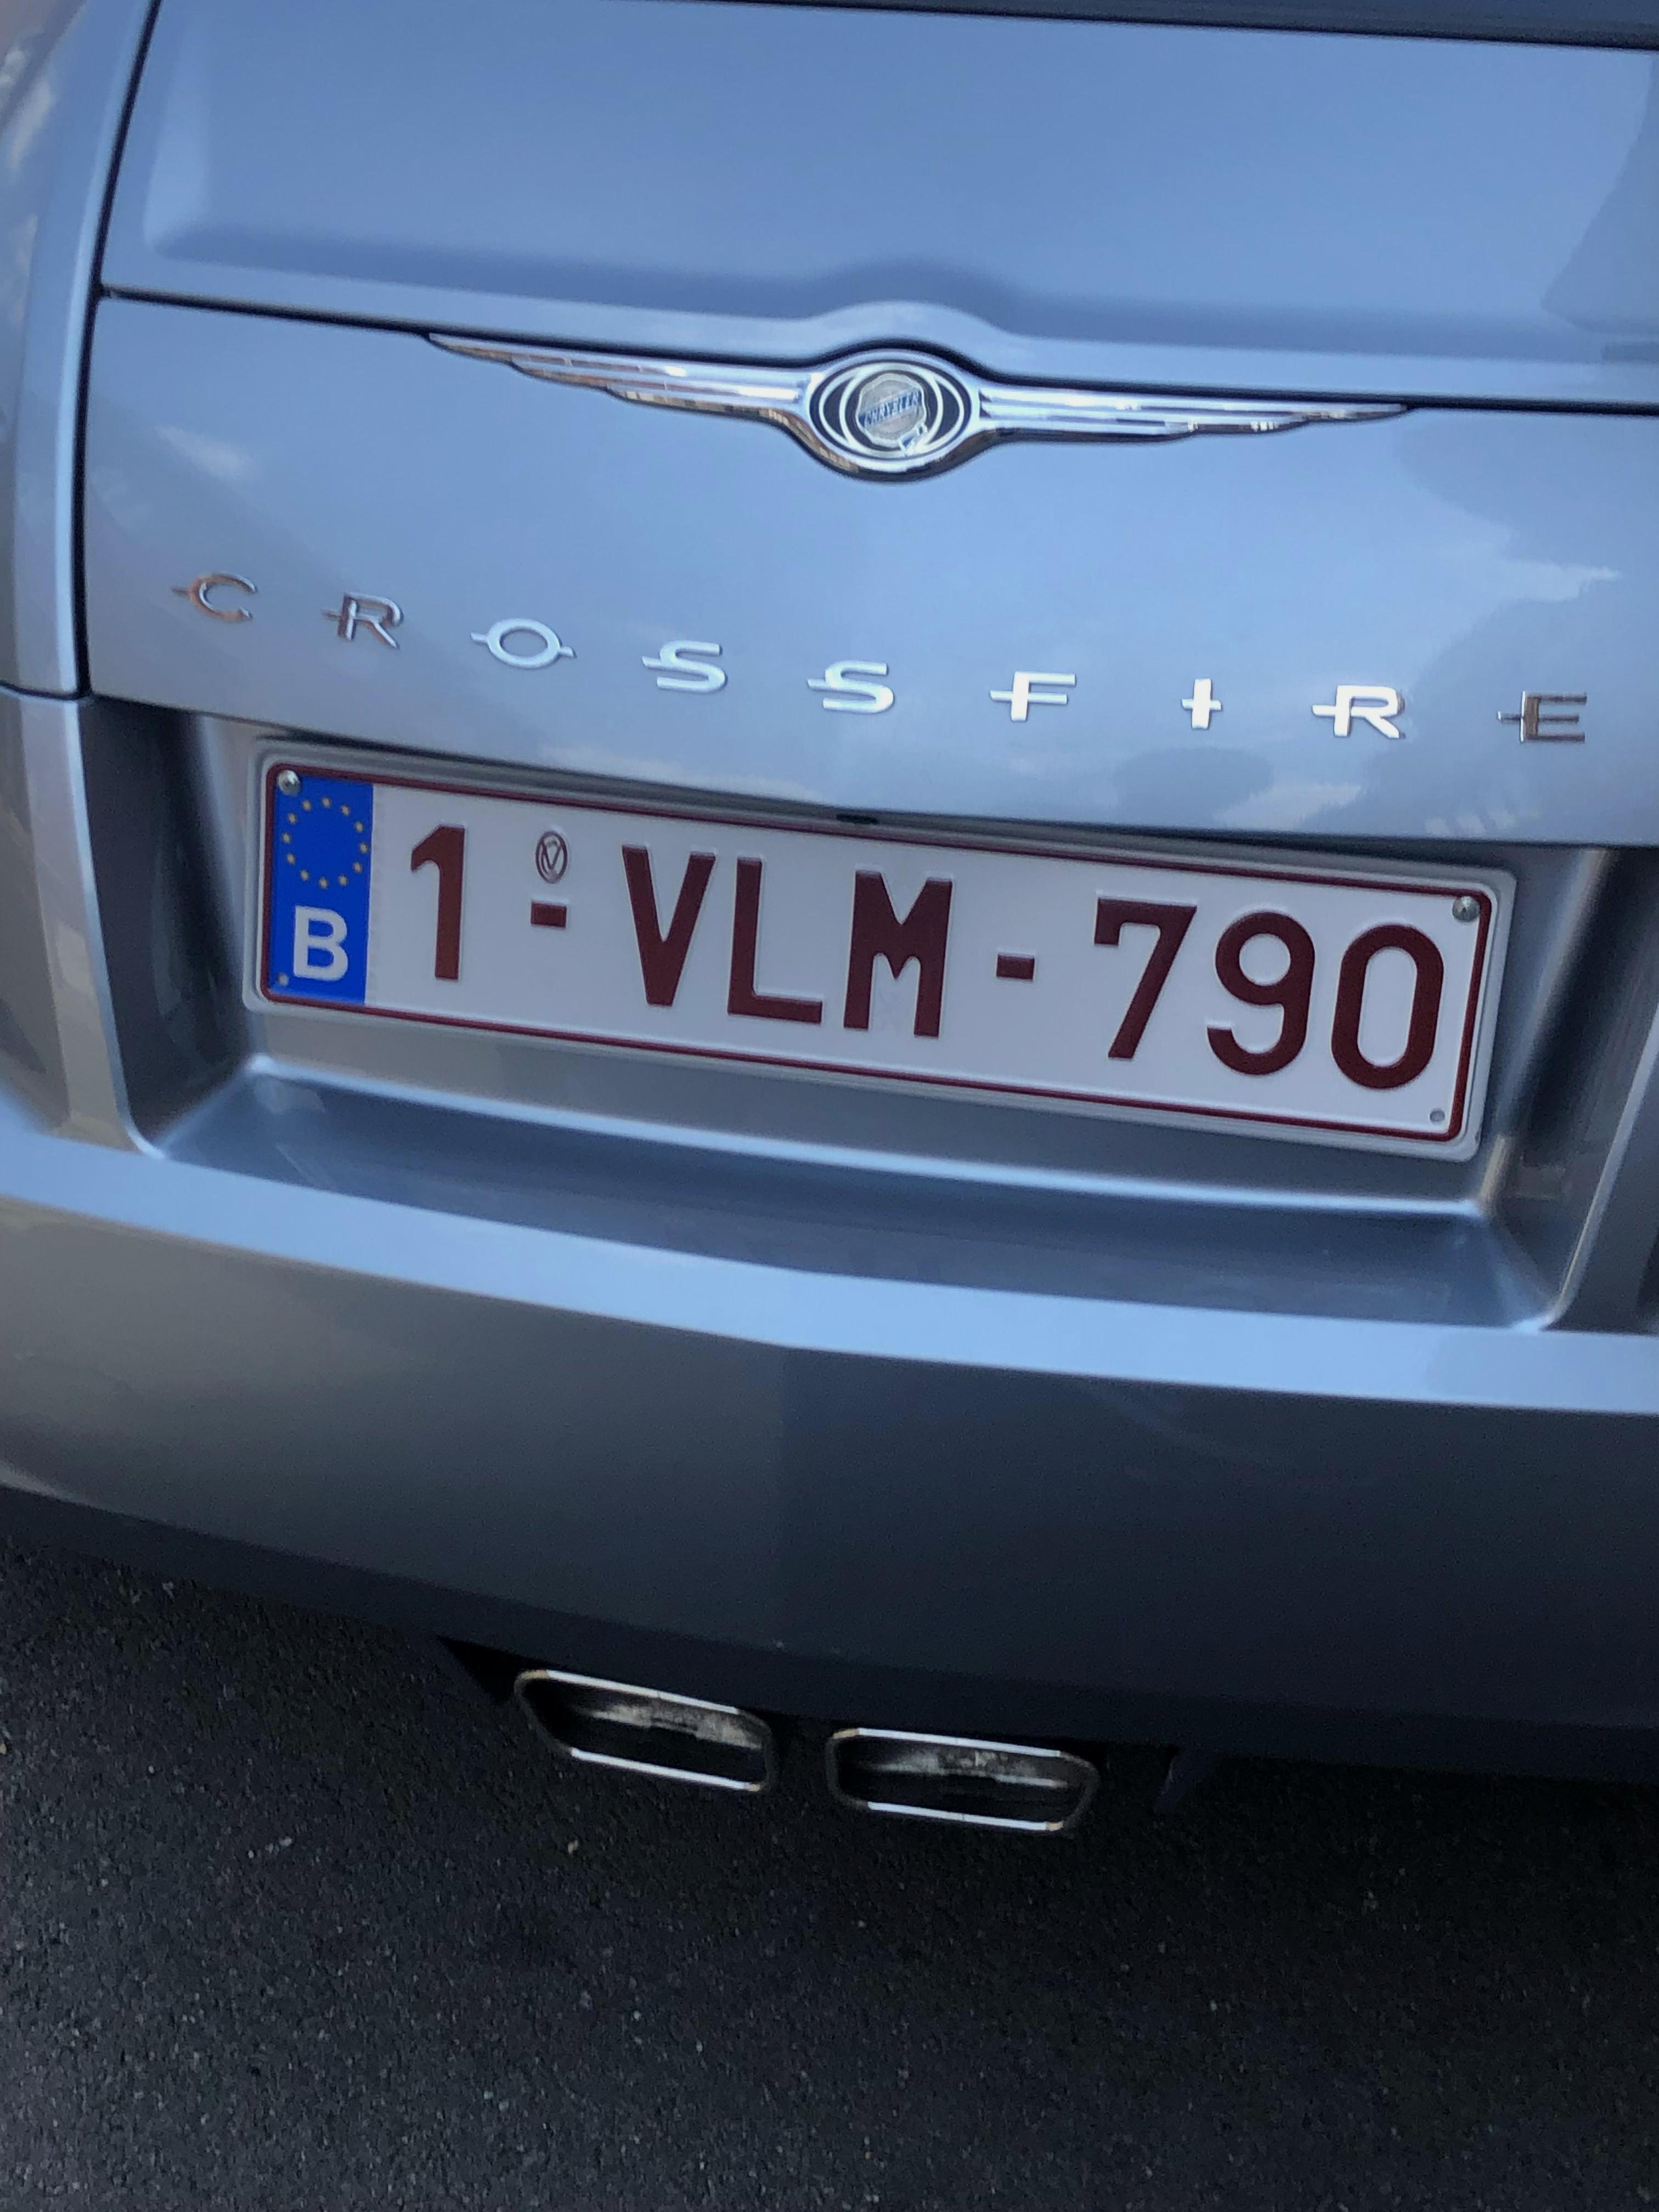plate: (233, 741, 1511, 1148)
